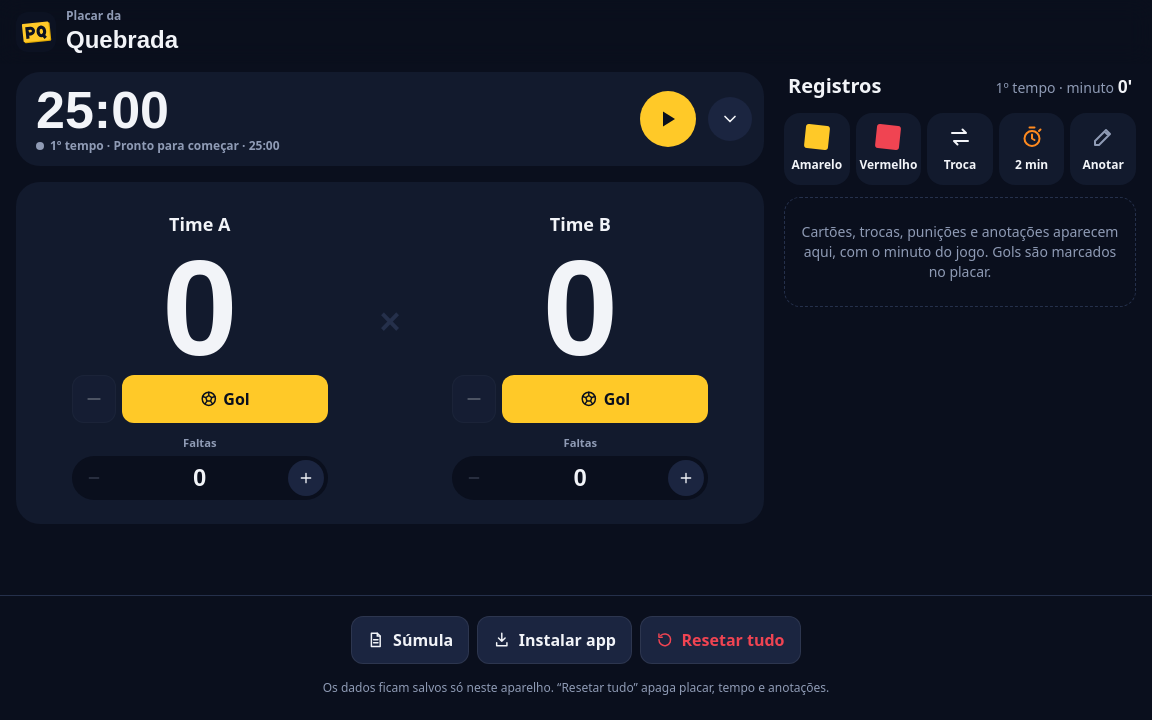
App › cancelar o pop-up não registra nada
Click the button "Troca" at coordinates (960, 149), box [927, 113, 993, 185]
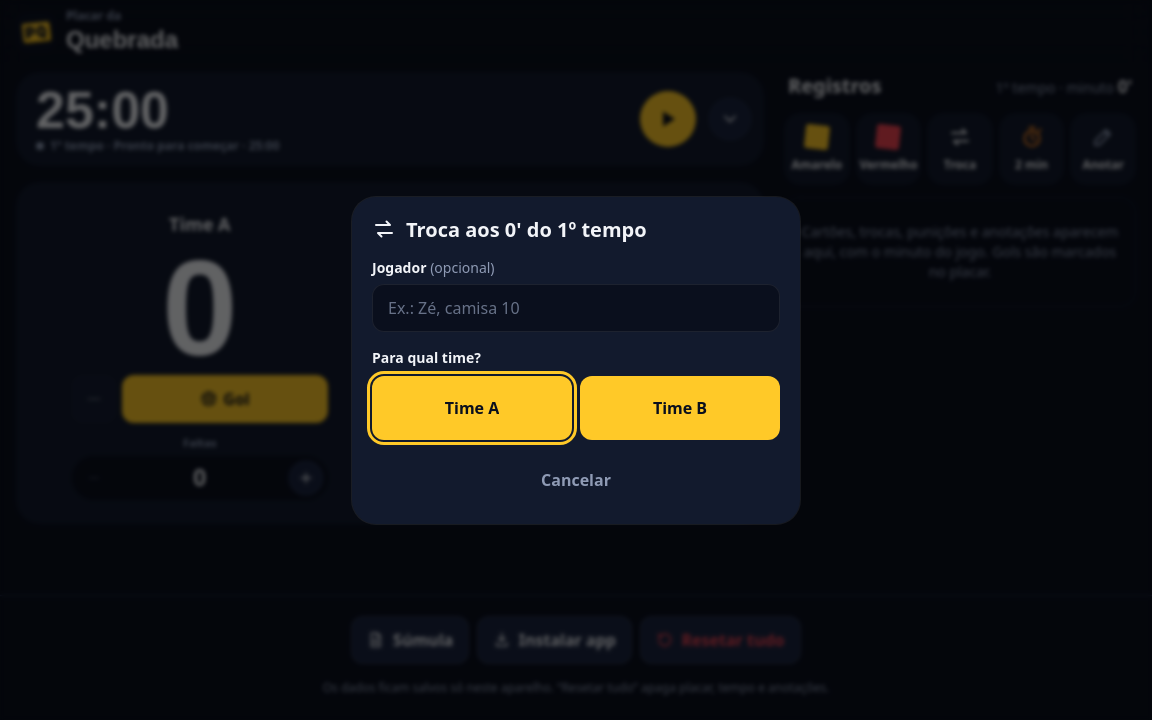
Click the button "Cancelar" at coordinates (576, 480), box [372, 456, 780, 504]
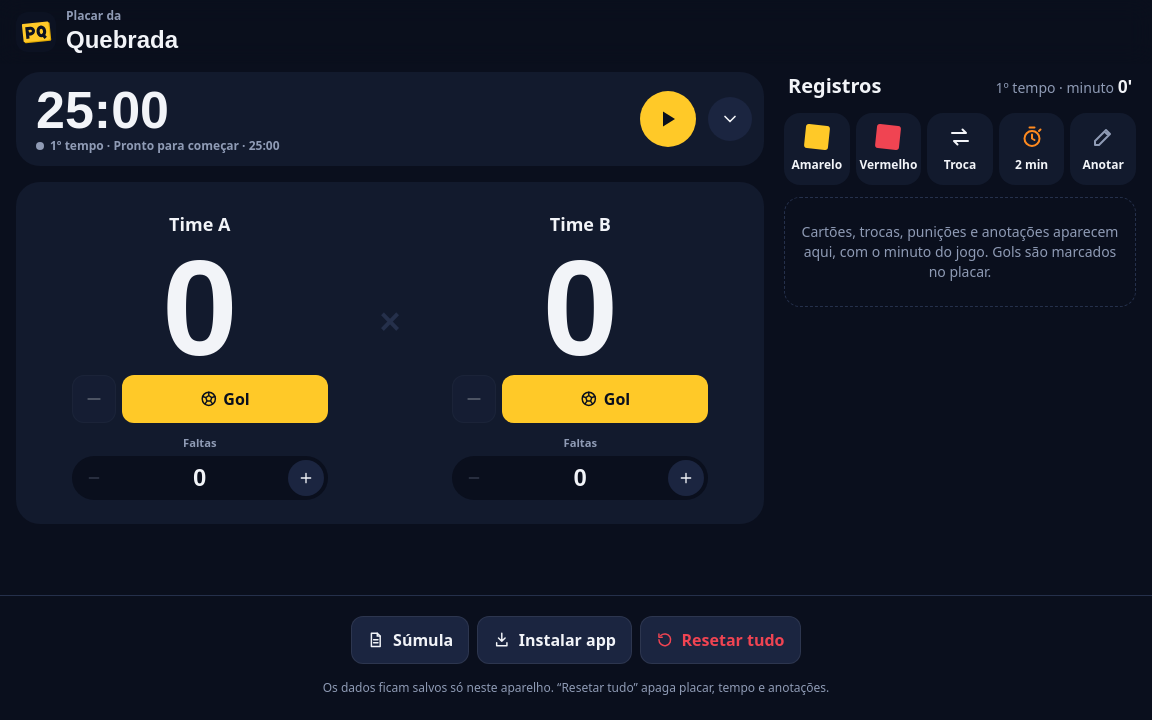
Expected: the dialog is gone
